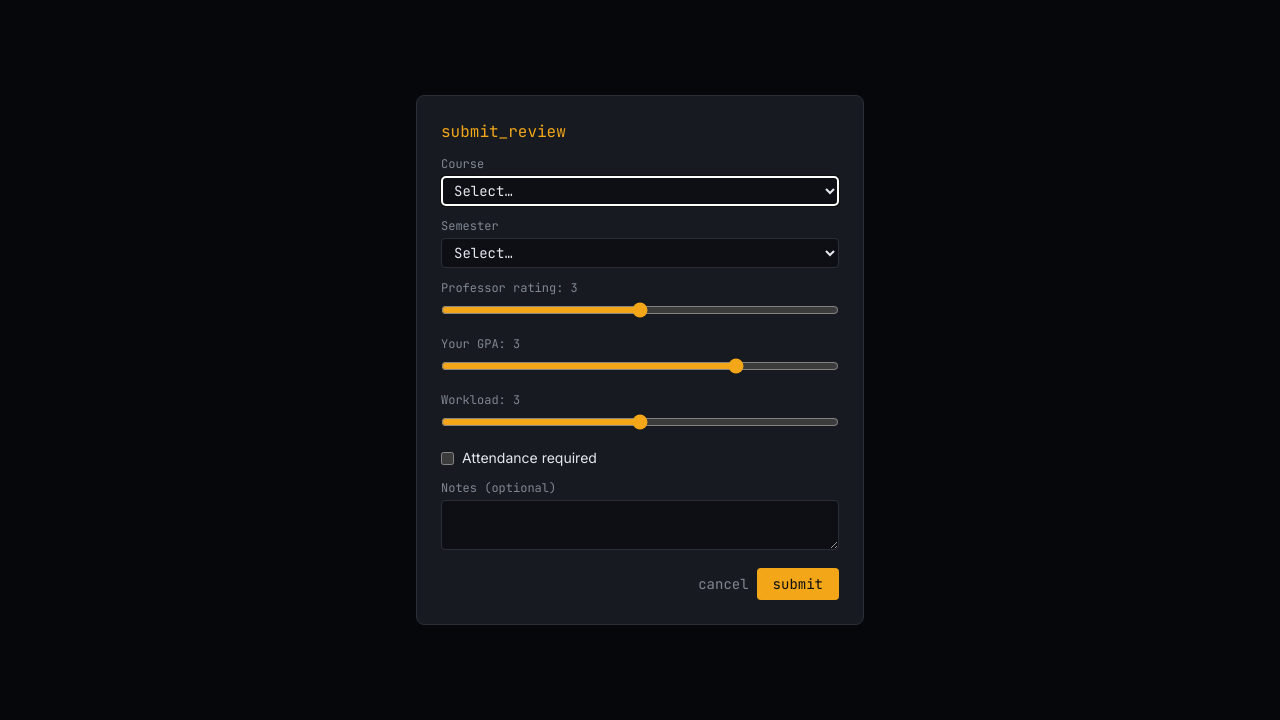
Test case: SubmitReviewForm › shows validation errors when submitting empty required fields
Click the button "submit". click: (798, 584)
box: [757, 568, 839, 600]
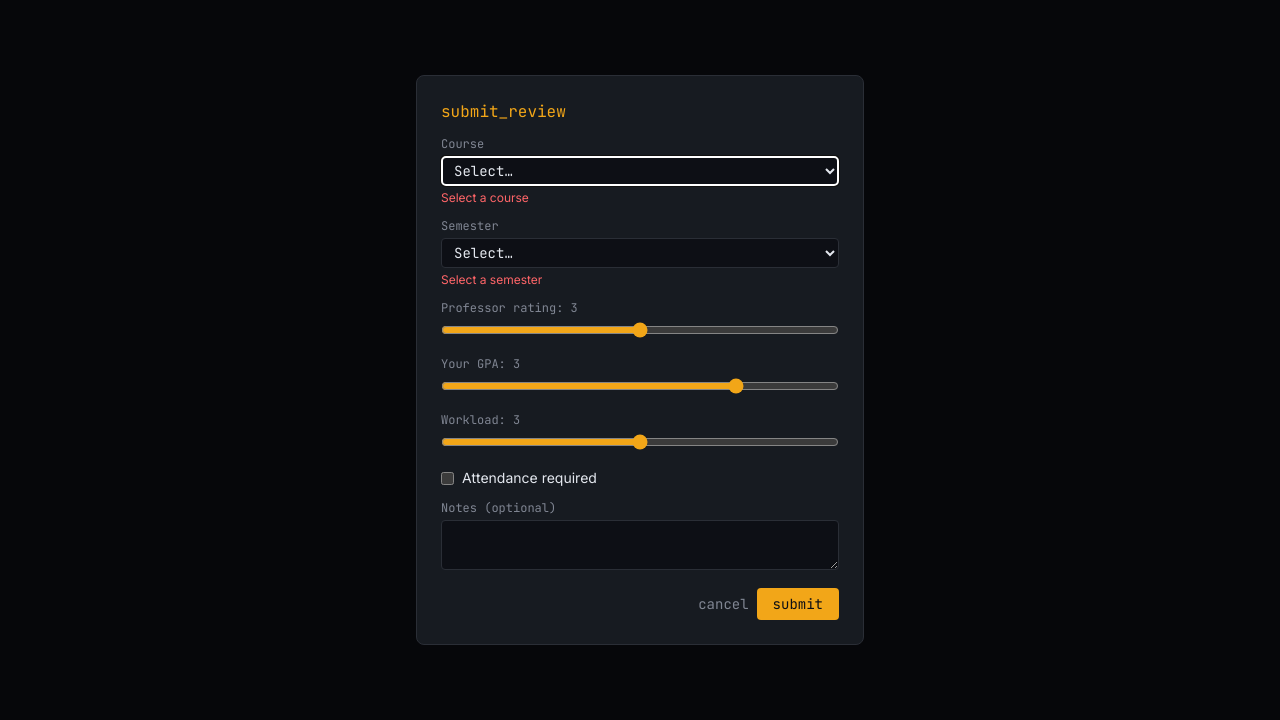
Now the text "Select a course" is shown, box [441, 190, 529, 205]
